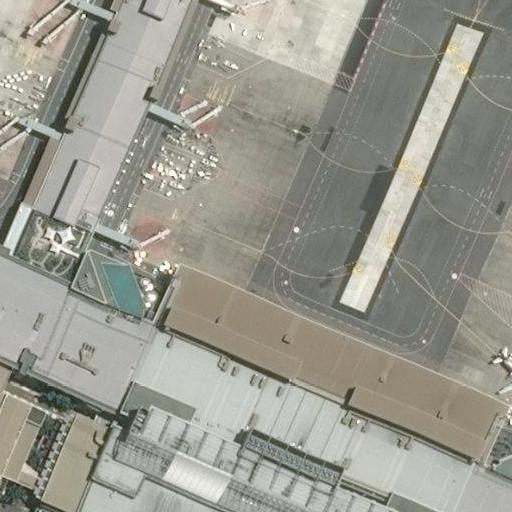Aircraft: (487, 342, 512, 400)
